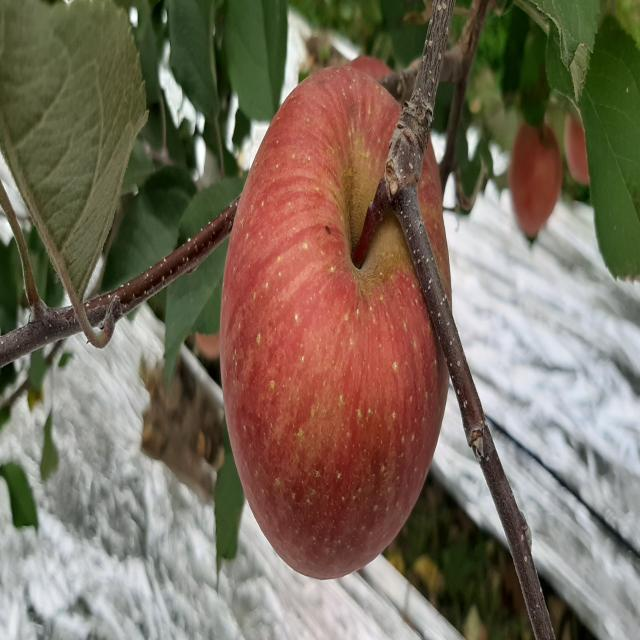fresh: (213, 57, 461, 589)
